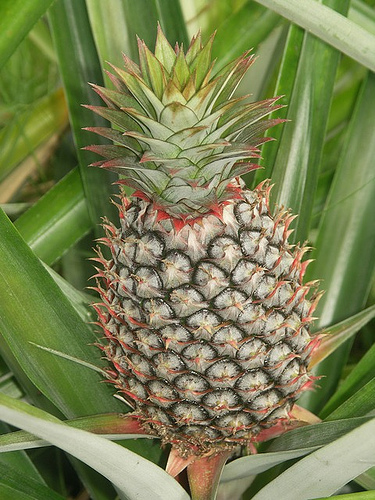pineapple: (78, 18, 330, 453)
